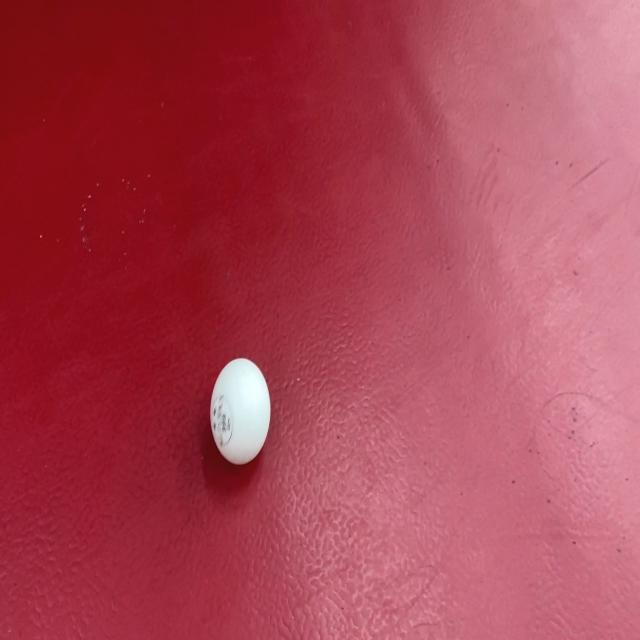ping-pong-ball: (208, 351, 274, 471)
